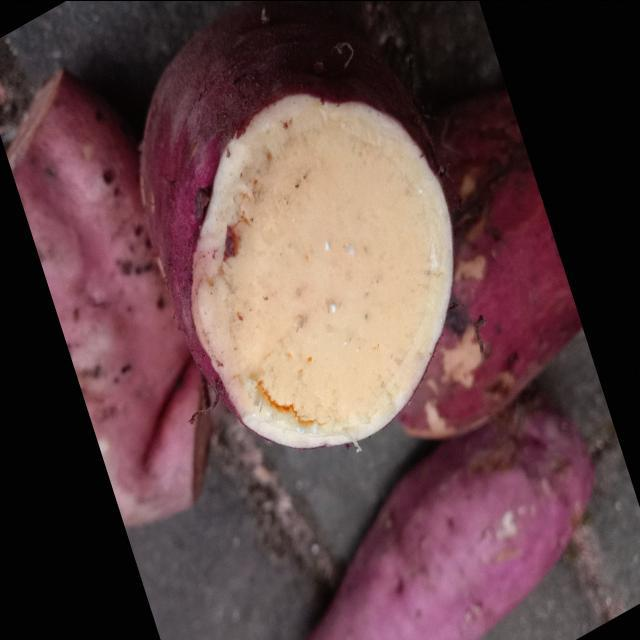Healthy Sweet Potato: (192, 93, 452, 447)
